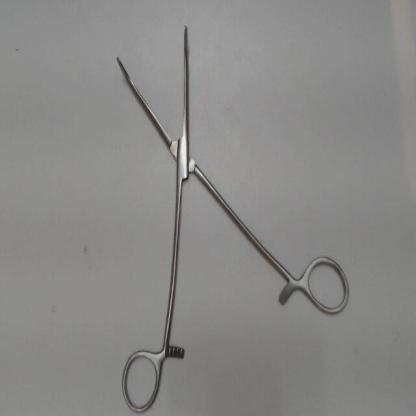Lahey Forceps: (107, 20, 355, 412)
